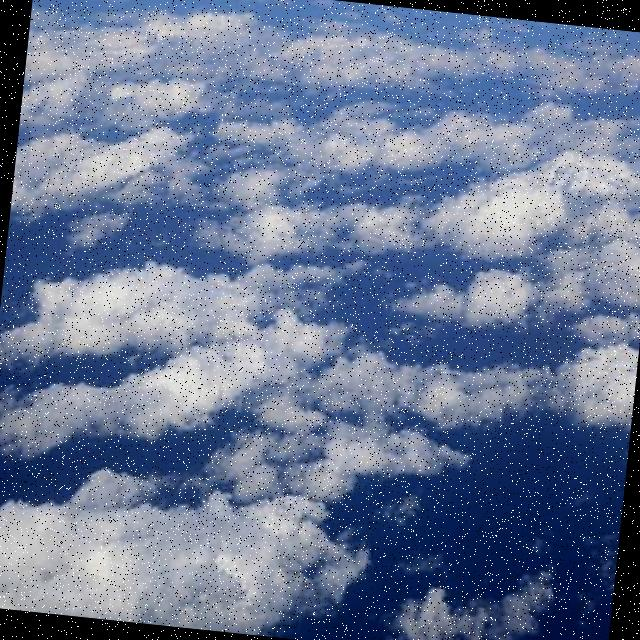Cc: (1, 1, 640, 627)
